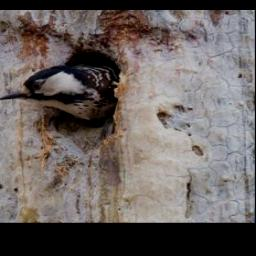Woodpecker: (0, 60, 117, 123)
